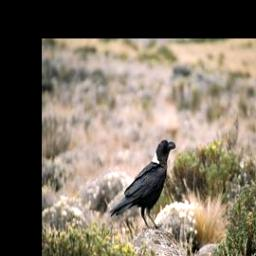Crow: (108, 136, 177, 233)
